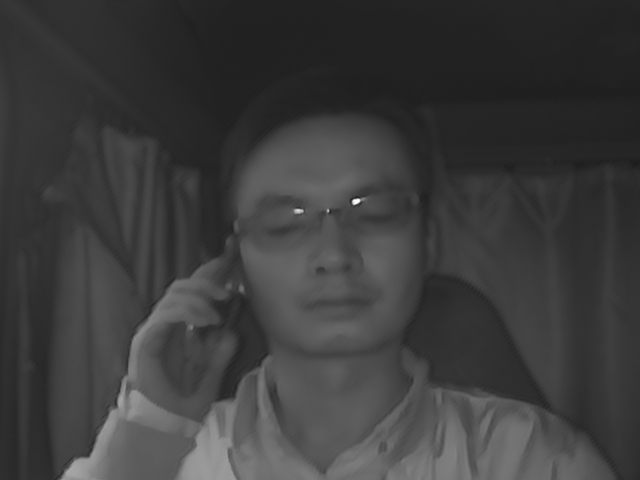hand: (123, 251, 246, 408)
